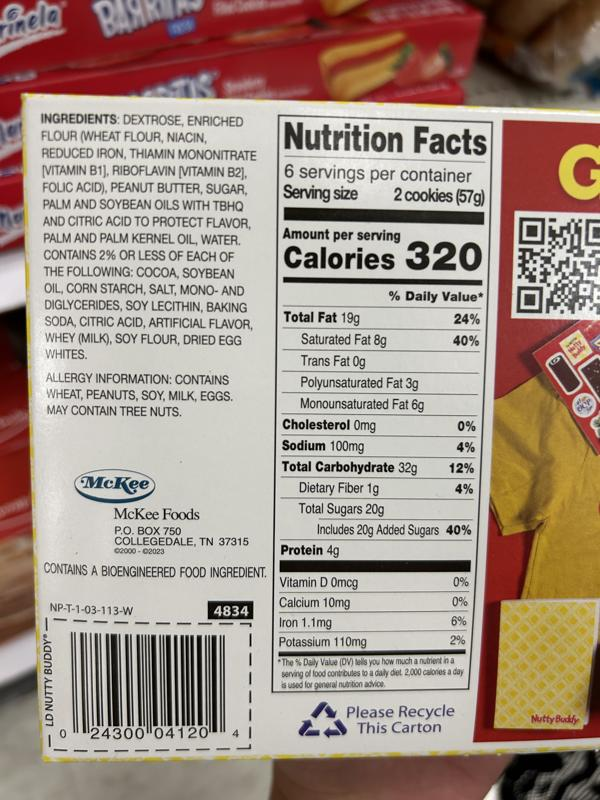ingredients: (37, 108, 261, 363)
